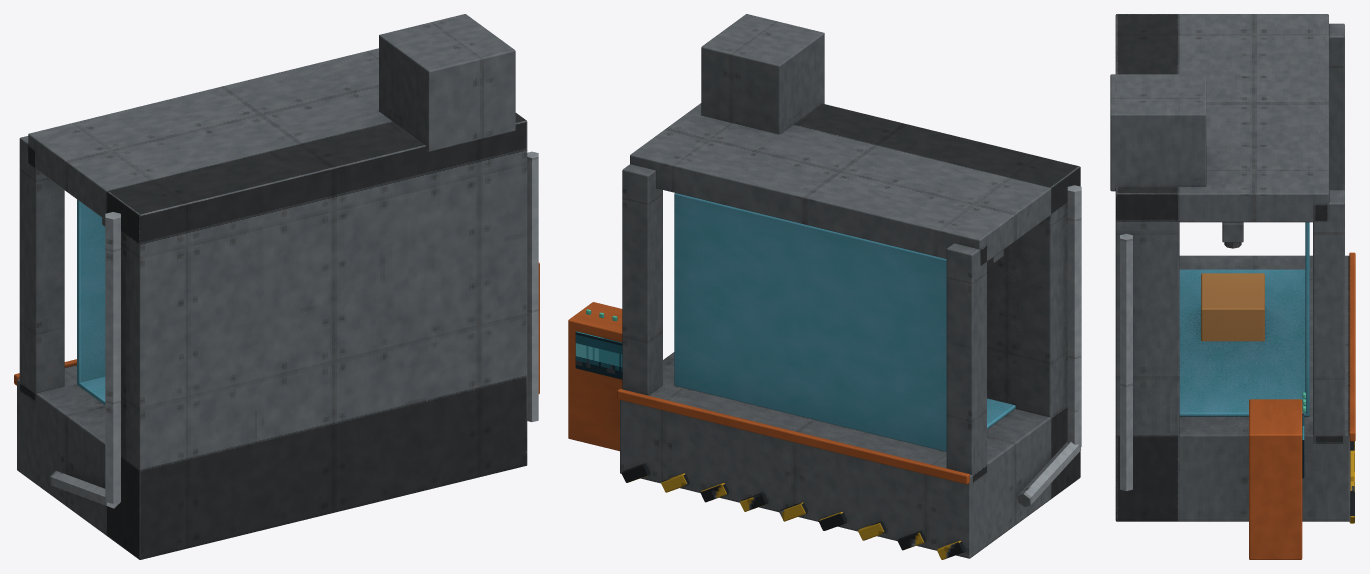
File: base_fabricator.glb
3 renders of one model, left to right at view 1: azimuth 30°, elevation 25°; view 2: azimuth 150°, elevation 25°; view 3: azimuth 270°, elevation 25°, orthographic. The views are drawn at different scales.
Visible parts, largest first — view 1: base_fabricator.001; view 2: base_fabricator.001; view 3: base_fabricator.001.
Part boxes in pixels (x1,y1,x2,y2): base_fabricator.001: (14,14,539,559); base_fabricator.001: (568,14,1081,559); base_fabricator.001: (1110,14,1355,559).
Bounding box in the file's own units: 5.03 × 4.21 × 2.3.
8 materials, 8 textured.
